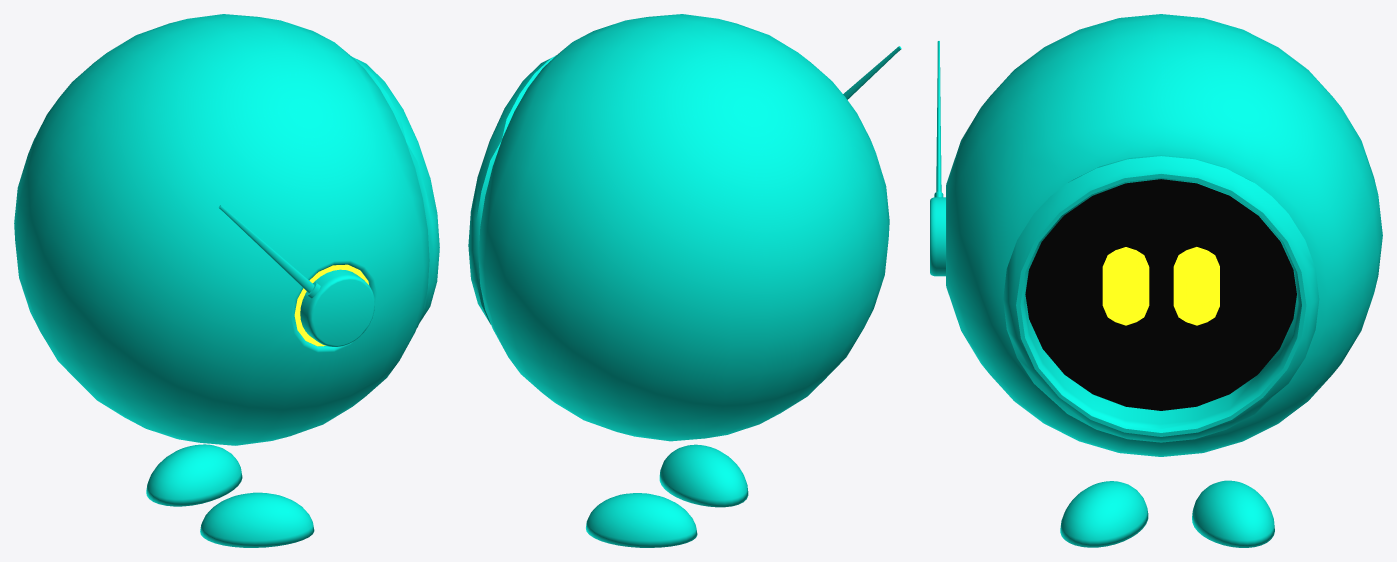
File: cute_robot.glb
3 views of the same model, side by side, from view 1: azimuth 30°, elevation 25°; view 2: azimuth 150°, elevation 25°; view 3: azimuth 270°, elevation 25° (orthographic). The views are drawn at different scales.
Visible parts, largest first — view 1: Object_4, Object_5; view 2: Object_4; view 3: Object_4, Object_6, mesh_2, mesh_3.
Part boxes in pixels (x1,y1,x2,y2): Object_4: (14, 14, 439, 547); Object_5: (294, 264, 368, 346); Object_4: (468, 14, 901, 547); Object_4: (930, 14, 1382, 547); Object_6: (1025, 179, 1296, 410); mesh_2: (1102, 247, 1149, 325); mesh_3: (1173, 247, 1219, 325).
Size of the model in its own units: 1.5 by 2.09 by 1.75.
5 materials, 5 textured.
